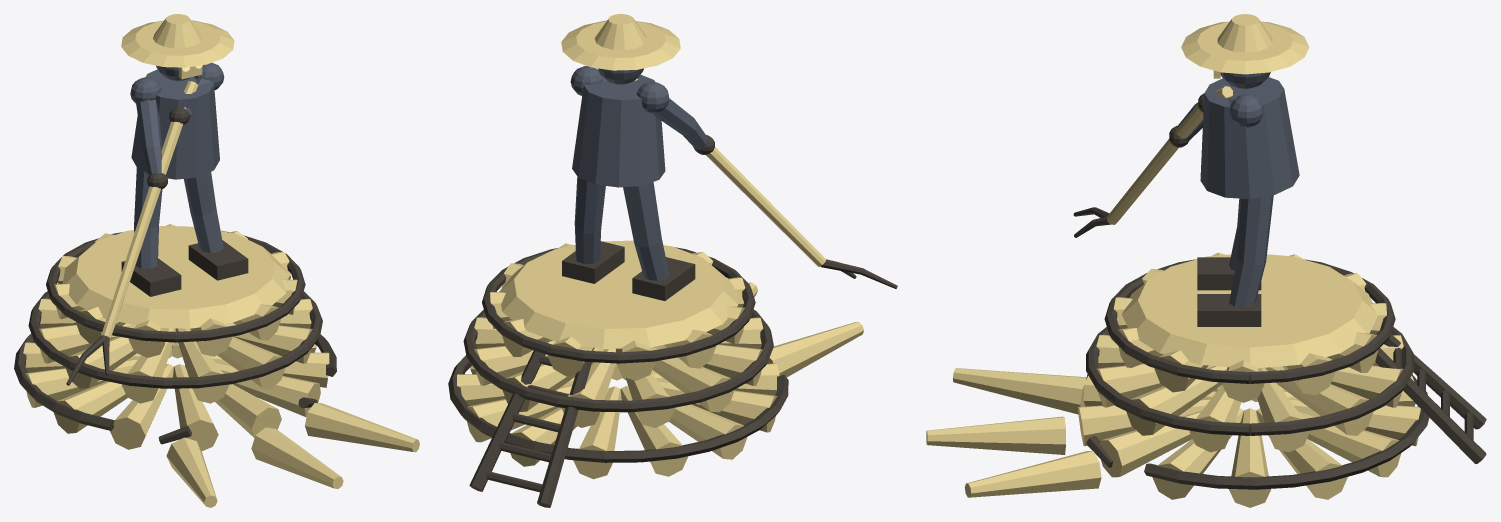
File: stackman.glb
3 renders of one model, left to right at view 1: azimuth 30°, elevation 25°; view 2: azimuth 150°, elevation 25°; view 3: azimuth 270°, elevation 25°, orthographic. The views are drawn at different scales.
Parts seen in each view (by area): view 1: stackman_bone, stackman_dark, stackman_body; view 2: stackman_bone, stackman_dark, stackman_body; view 3: stackman_bone, stackman_dark, stackman_body.
Boxes of the visible parts, left/top/right/bottom form: stackman_bone: left=23, top=14, right=419, bottom=507; stackman_dark: left=14, top=107, right=336, bottom=444; stackman_body: left=130, top=62, right=224, bottom=268; stackman_bone: left=457, top=14, right=863, bottom=479; stackman_dark: left=448, top=135, right=897, bottom=507; stackman_body: left=570, top=66, right=708, bottom=280; stackman_bone: left=926, top=14, right=1421, bottom=507; stackman_dark: left=1073, top=93, right=1486, bottom=489; stackman_body: left=1177, top=72, right=1299, bottom=307.
Bounding box in the file's own units: 2.53 × 2.84 × 3.35.
